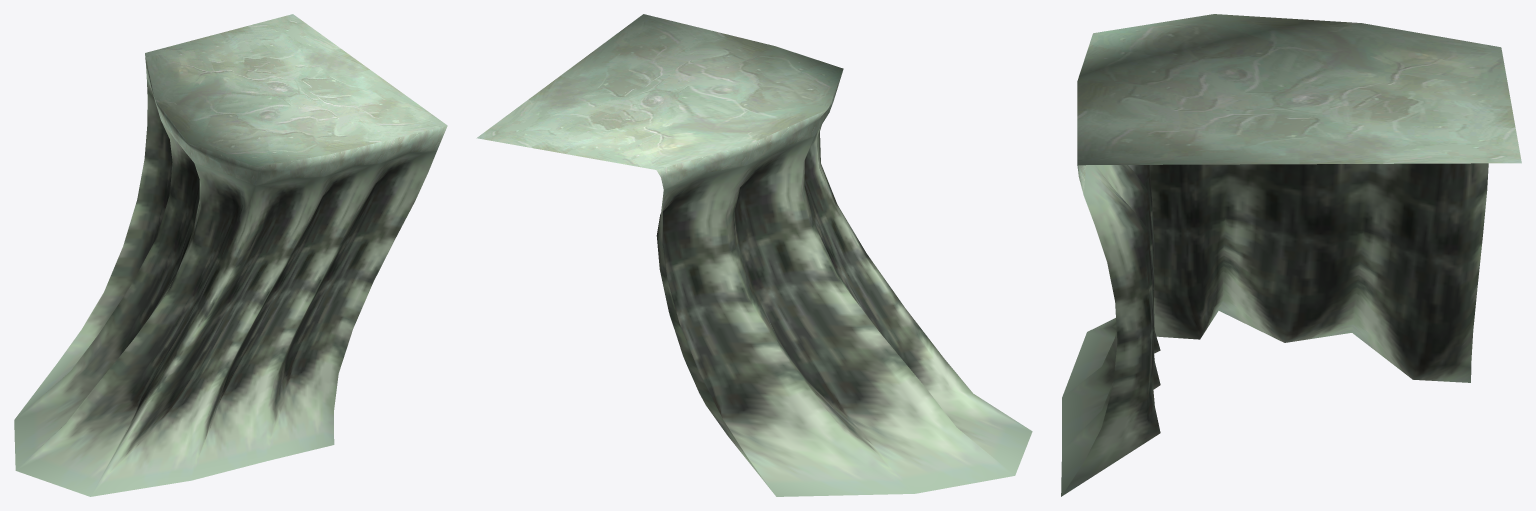
Rendered from TROLLHOLE02_MAINCAVEPLATFORM03.fbx.
The picture shows the model from 3 angles, left to right: view 1: azimuth 30°, elevation 25°; view 2: azimuth 150°, elevation 25°; view 3: azimuth 270°, elevation 25°; orthographic projection. The views are drawn at different scales.
Parts seen in each view (by area): view 1: TROLLHOLE02_MAINCAVEPLATFORM03; view 2: TROLLHOLE02_MAINCAVEPLATFORM03; view 3: TROLLHOLE02_MAINCAVEPLATFORM03.
Boxes of the visible parts, box(x1,y1,x2,y2) form: TROLLHOLE02_MAINCAVEPLATFORM03: box(14, 14, 447, 496); TROLLHOLE02_MAINCAVEPLATFORM03: box(476, 14, 1032, 496); TROLLHOLE02_MAINCAVEPLATFORM03: box(1061, 14, 1521, 496).
Bounding box in the file's own units: 41058 × 29841 × 29356.
2 materials, 2 textured.
